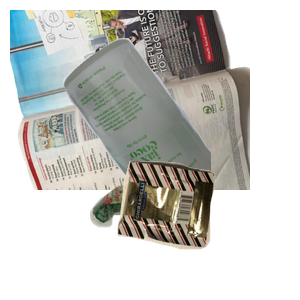glass: (60, 36, 300, 216)
paper: (10, 10, 250, 190)
plastic: (88, 182, 242, 300)
trash: (115, 158, 300, 300)
